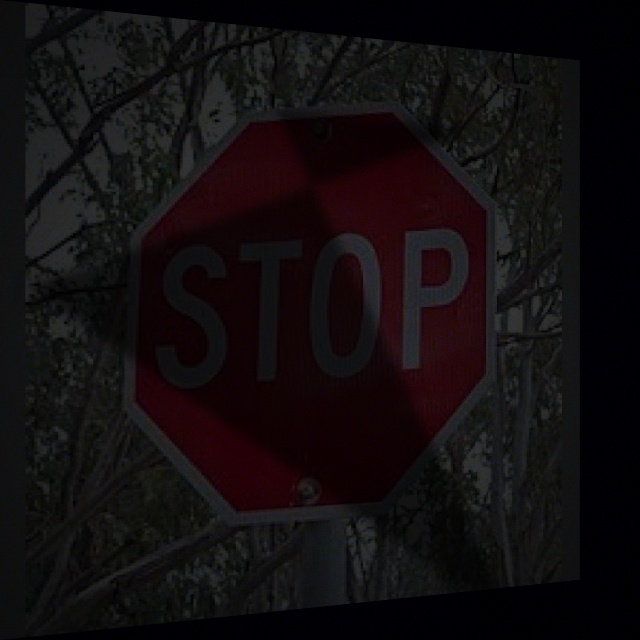Stop: (129, 84, 496, 531)
